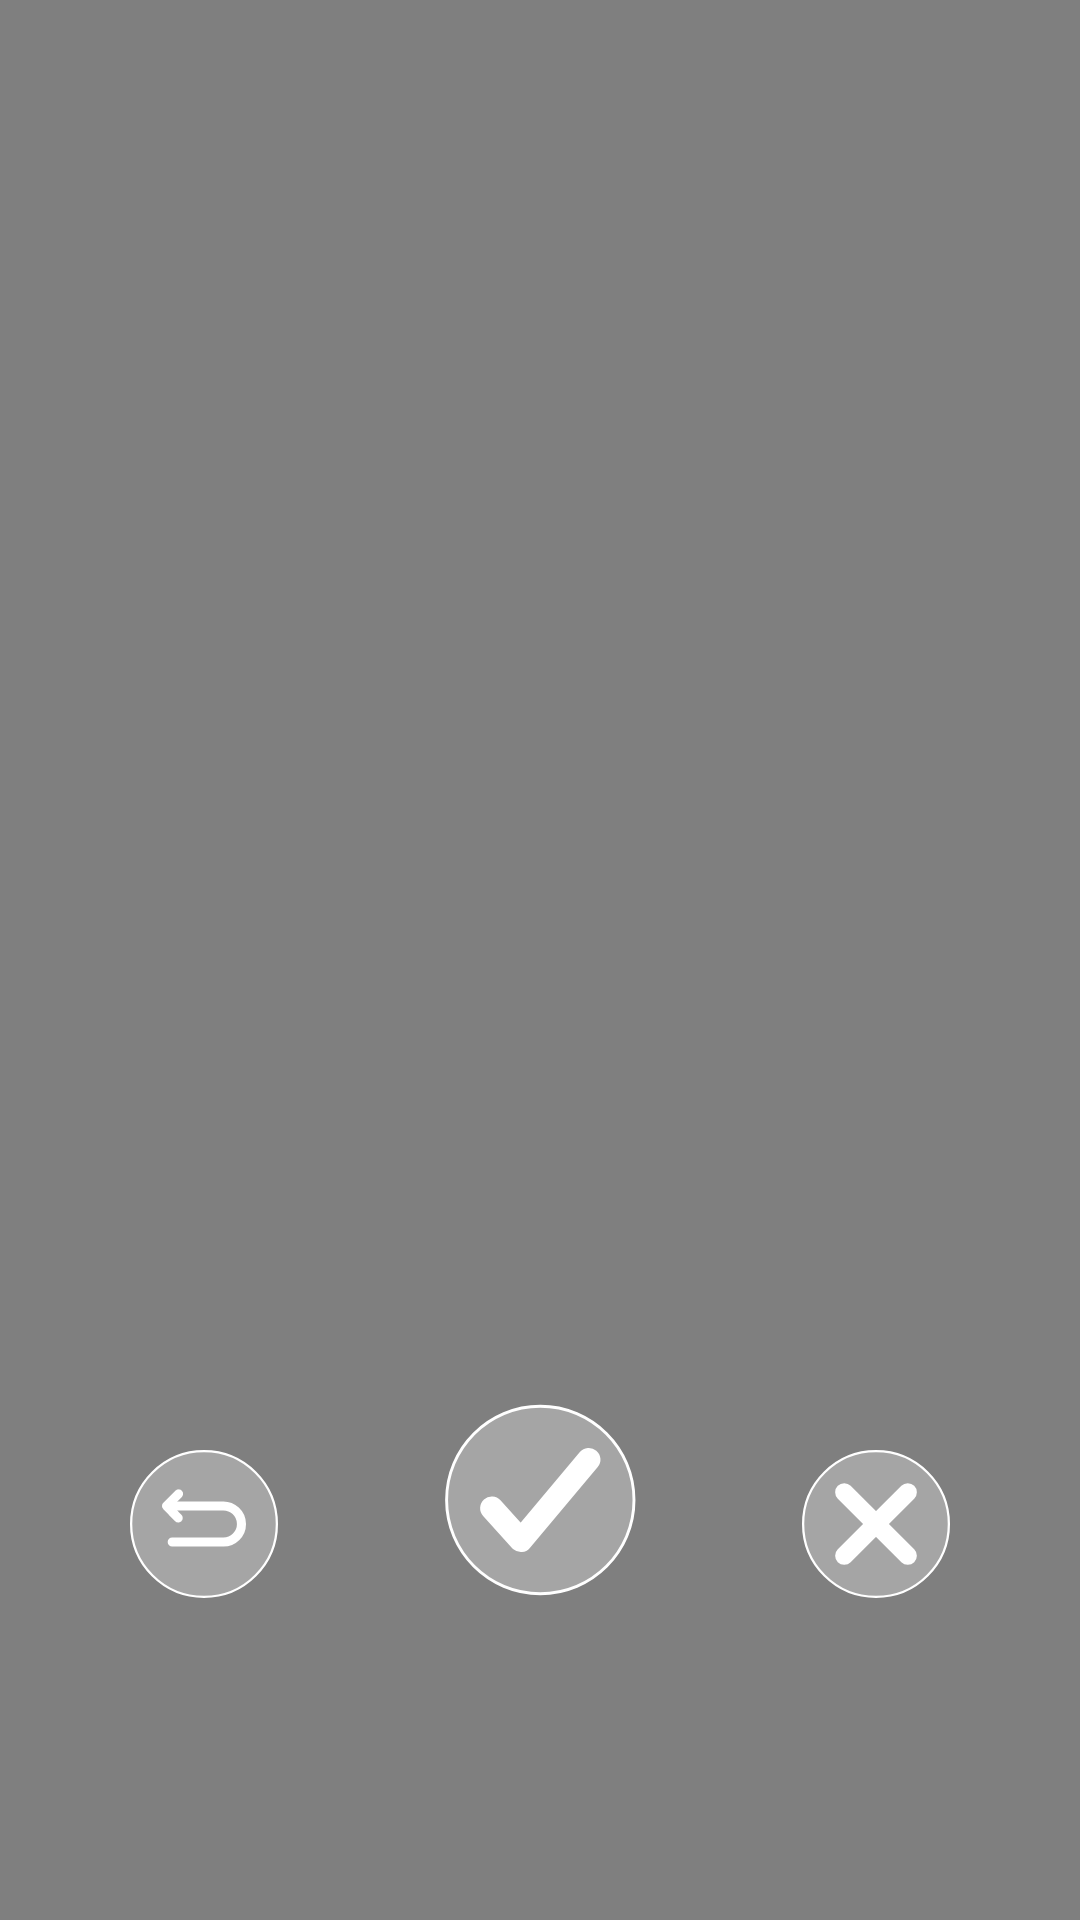

Locate icon controls on the screen. Image size 1080px×1920px, boxes as [x1,y1,x2,y2].
Back: [130,1450,278,1598]
Cancel: [802,1450,950,1598]
